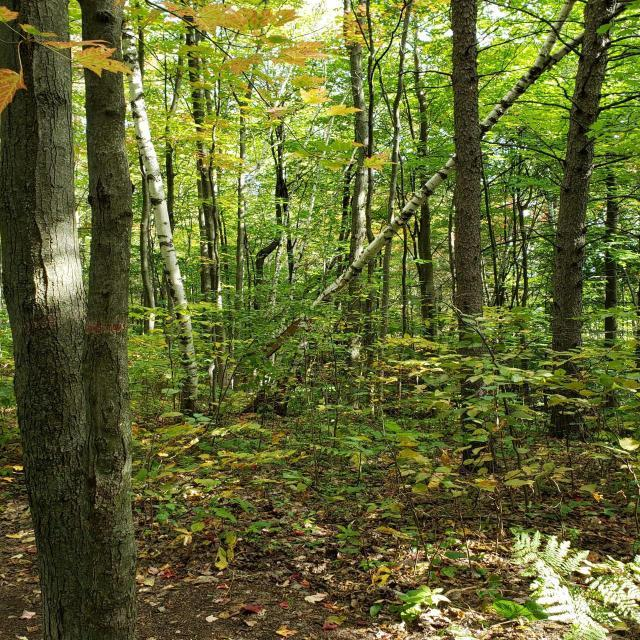fallen_object: (225, 4, 640, 406)
